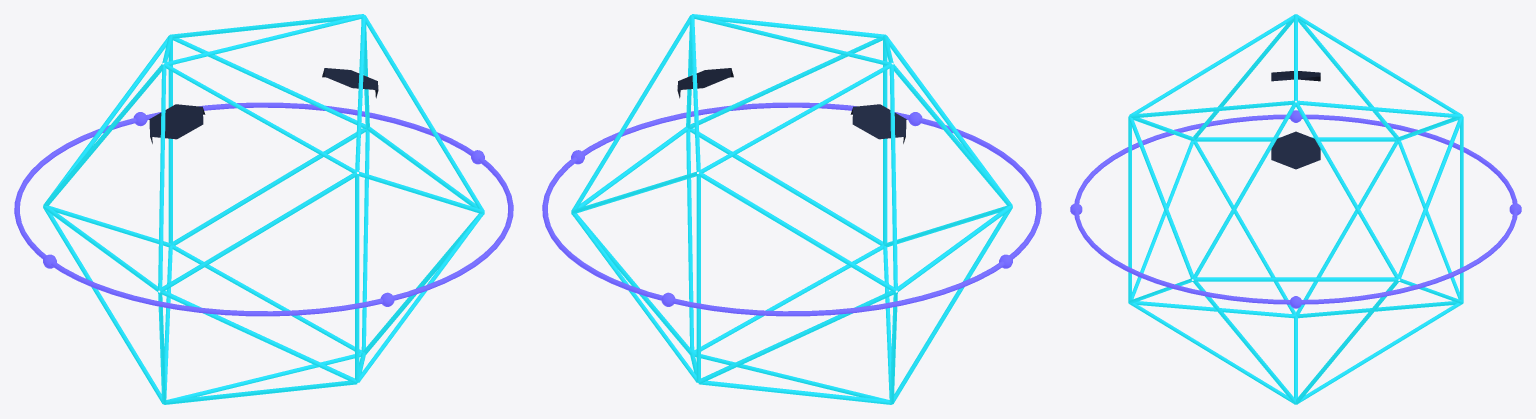
File: avatar-aurora-kit-arquiteto.glb
3 renders of one model, left to right at view 1: azimuth 30°, elevation 25°; view 2: azimuth 150°, elevation 25°; view 3: azimuth 270°, elevation 25°, orthographic. The views are drawn at different scales.
Visible parts, largest first — view 1: kit_aurora_arquiteto_blueprintRing, kit_aurora_arquiteto_pauldronR, kit_aurora_arquiteto_cage01, kit_aurora_arquiteto_cage27, kit_aurora_arquiteto_cage00, kit_aurora_arquiteto_cage11, kit_aurora_arquiteto_cage12, kit_aurora_arquiteto_cage14, kit_aurora_arquiteto_cage02, kit_aurora_arquiteto_cage19, kit_aurora_arquiteto_cage28, kit_aurora_arquiteto_cage13 (+18 smaller); view 2: kit_aurora_arquiteto_blueprintRing, kit_aurora_arquiteto_pauldronR, kit_aurora_arquiteto_cage07, kit_aurora_arquiteto_cage21, kit_aurora_arquiteto_cage08, kit_aurora_arquiteto_cage18, kit_aurora_arquiteto_cage17, kit_aurora_arquiteto_cage15, kit_aurora_arquiteto_cage06, kit_aurora_arquiteto_cage10, kit_aurora_arquiteto_cage20, kit_aurora_arquiteto_cage16 (+18 smaller); view 3: kit_aurora_arquiteto_blueprintRing, kit_aurora_arquiteto_pauldronL, kit_aurora_arquiteto_cage29, kit_aurora_arquiteto_cage11, kit_aurora_arquiteto_cage18, kit_aurora_arquiteto_cage02, kit_aurora_arquiteto_cage06, kit_aurora_arquiteto_cage14, kit_aurora_arquiteto_cage15, kit_aurora_arquiteto_cage10, kit_aurora_arquiteto_cage19, kit_aurora_arquiteto_cage22 (+15 smaller).
Boxes of the visible parts, left/top/right/bottom form: kit_aurora_arquiteto_blueprintRing: left=14, top=102, right=513, bottom=316; kit_aurora_arquiteto_pauldronR: left=149, top=104, right=205, bottom=143; kit_aurora_arquiteto_cage01: left=159, top=173, right=357, bottom=291; kit_aurora_arquiteto_cage27: left=172, top=128, right=366, bottom=245; kit_aurora_arquiteto_cage00: left=158, top=64, right=166, bottom=290; kit_aurora_arquiteto_cage11: left=365, top=15, right=484, bottom=211; kit_aurora_arquiteto_cage12: left=160, top=291, right=357, bottom=383; kit_aurora_arquiteto_cage14: left=43, top=208, right=161, bottom=402; kit_aurora_arquiteto_cage02: left=163, top=63, right=357, bottom=172; kit_aurora_arquiteto_cage19: left=172, top=38, right=366, bottom=128; kit_aurora_arquiteto_cage28: left=361, top=129, right=369, bottom=351; kit_aurora_arquiteto_cage13: left=355, top=174, right=359, bottom=382; kit_aurora_arquiteto_blueprintRing: left=542, top=102, right=1041, bottom=316; kit_aurora_arquiteto_pauldronR: left=850, top=104, right=906, bottom=143; kit_aurora_arquiteto_cage07: left=698, top=173, right=896, bottom=291; kit_aurora_arquiteto_cage21: left=689, top=128, right=883, bottom=245; kit_aurora_arquiteto_cage08: left=889, top=64, right=897, bottom=290; kit_aurora_arquiteto_cage18: left=571, top=15, right=690, bottom=211; kit_aurora_arquiteto_cage17: left=698, top=291, right=895, bottom=383; kit_aurora_arquiteto_cage15: left=894, top=208, right=1012, bottom=402; kit_aurora_arquiteto_cage06: left=698, top=63, right=892, bottom=172; kit_aurora_arquiteto_cage10: left=689, top=38, right=883, bottom=128; kit_aurora_arquiteto_cage20: left=686, top=129, right=694, bottom=351; kit_aurora_arquiteto_cage16: left=696, top=174, right=700, bottom=382; kit_aurora_arquiteto_blueprintRing: left=1074, top=114, right=1517, bottom=304; kit_aurora_arquiteto_pauldronL: left=1271, top=131, right=1320, bottom=169; kit_aurora_arquiteto_cage29: left=1193, top=277, right=1398, bottom=281; kit_aurora_arquiteto_cage11: left=1192, top=102, right=1295, bottom=279; kit_aurora_arquiteto_cage18: left=1296, top=102, right=1399, bottom=279; kit_aurora_arquiteto_cage02: left=1129, top=14, right=1295, bottom=114; kit_aurora_arquiteto_cage06: left=1296, top=14, right=1462, bottom=114; kit_aurora_arquiteto_cage14: left=1296, top=140, right=1397, bottom=314; kit_aurora_arquiteto_cage15: left=1194, top=140, right=1295, bottom=314; kit_aurora_arquiteto_cage10: left=1128, top=116, right=1193, bottom=279; kit_aurora_arquiteto_cage19: left=1398, top=116, right=1463, bottom=279; kit_aurora_arquiteto_cage22: left=1129, top=303, right=1293, bottom=403.
Size of the model in its own units: 1.28 by 0.9477 by 1.27.
